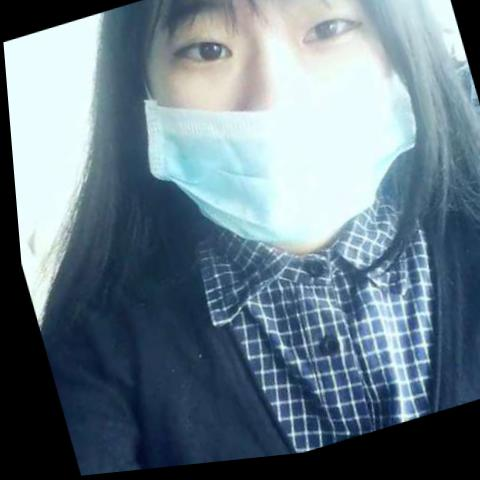WRONG: (130, 1, 438, 284)
